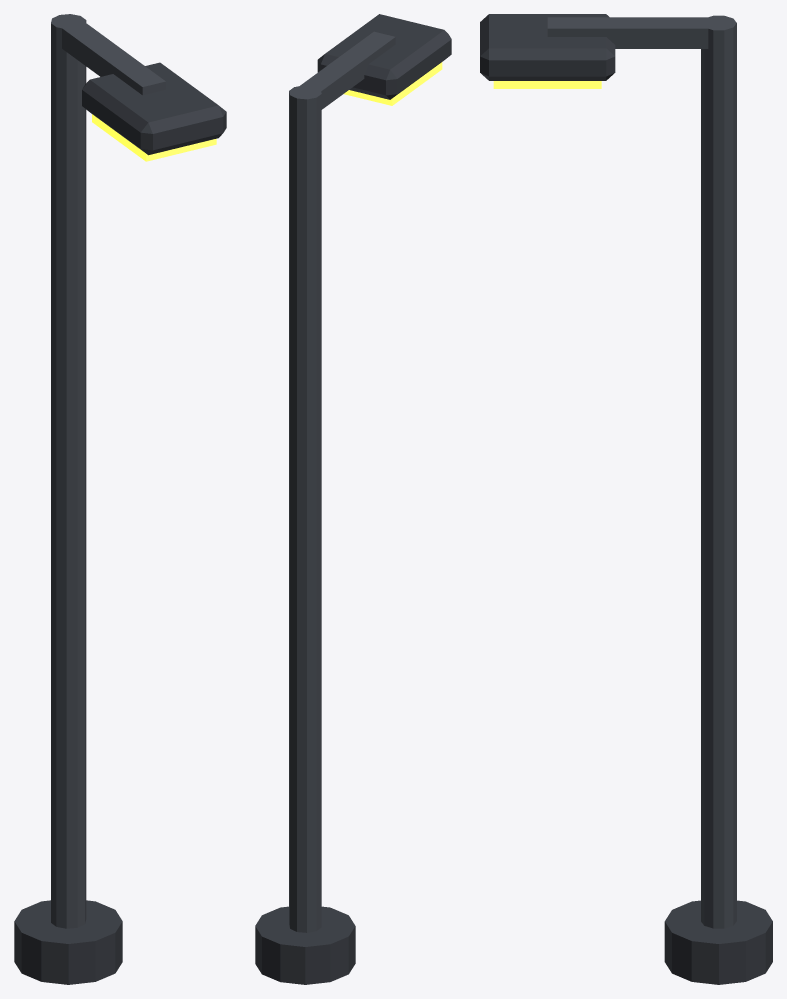
The model's file is lamp_post.glb.
3 renders of one model, left to right at view 1: azimuth 30°, elevation 25°; view 2: azimuth 150°, elevation 25°; view 3: azimuth 270°, elevation 25°, orthographic. The views are drawn at different scales.
Visible parts, largest first — view 1: lamp_post_mesh; view 2: lamp_post_mesh; view 3: lamp_post_mesh.
Part boxes in pixels (x1,y1,x2,y2): lamp_post_mesh: [14, 14, 226, 984]; lamp_post_mesh: [255, 14, 451, 984]; lamp_post_mesh: [480, 14, 772, 984].
Size of the model in its own units: 0.24 by 2.3 by 0.65.
